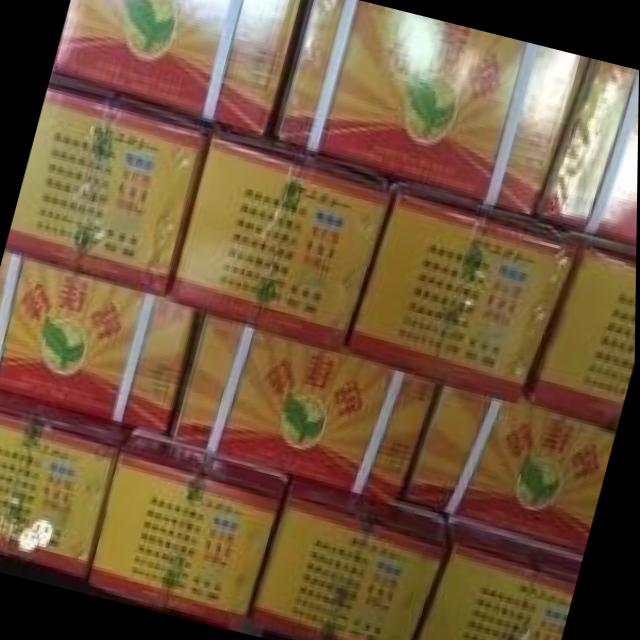box: (273, 0, 591, 215), (347, 181, 579, 399), (173, 124, 395, 351), (172, 313, 438, 500), (6, 73, 213, 297), (88, 428, 291, 634), (0, 248, 201, 433), (403, 385, 616, 555), (52, 0, 302, 136), (253, 477, 451, 640), (0, 392, 131, 581), (527, 234, 637, 431), (418, 519, 584, 640), (535, 59, 639, 246)
